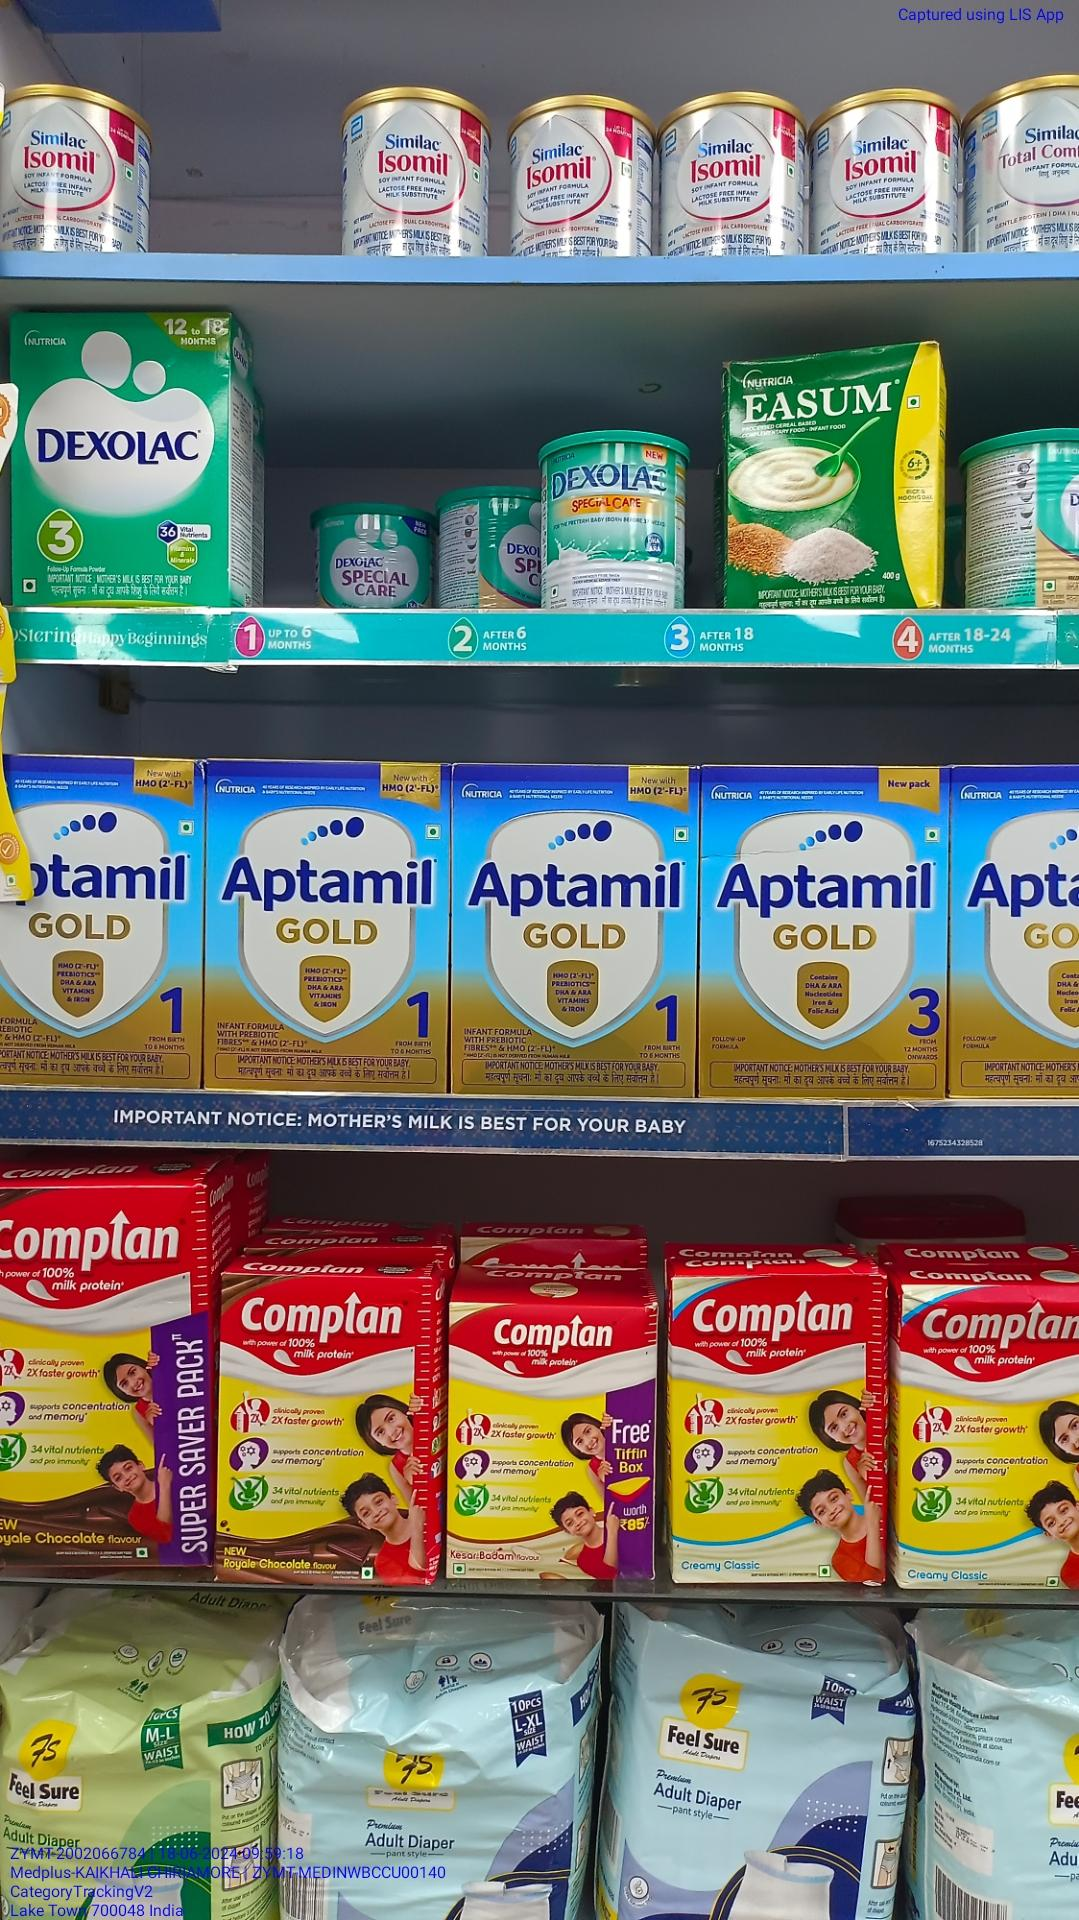COMPLAN_CHOCOLATE_1_KG_PACK: (0, 1183, 211, 1571)
COMPLAN_CHOCOLATE_500_GMS_PACK: (222, 1278, 434, 1575)
COMPLAN_CREAMY_CLASSIC_500_G_PACK: (666, 1274, 881, 1586), (902, 1283, 1079, 1589)
COMPLAN_KESAR_BADAM_500_GMS_PACK: (446, 1302, 658, 1580)
